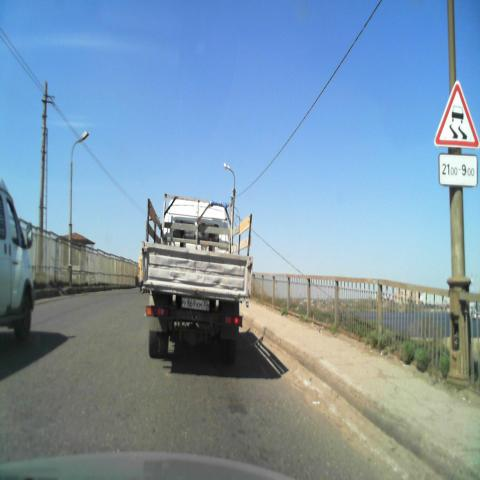1_15: (433, 80, 479, 148)
8_5_4: (438, 153, 478, 187)
